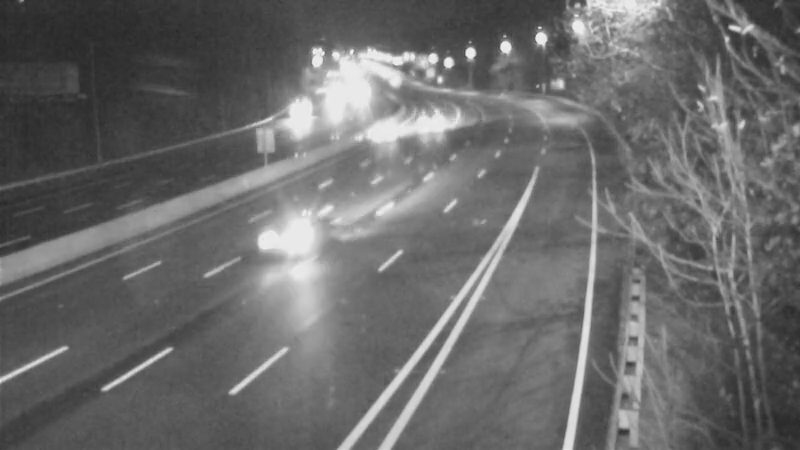vehicle: (240, 197, 320, 277), (369, 58, 419, 108), (407, 92, 457, 142), (359, 111, 409, 161), (273, 89, 323, 139), (312, 80, 362, 130)
